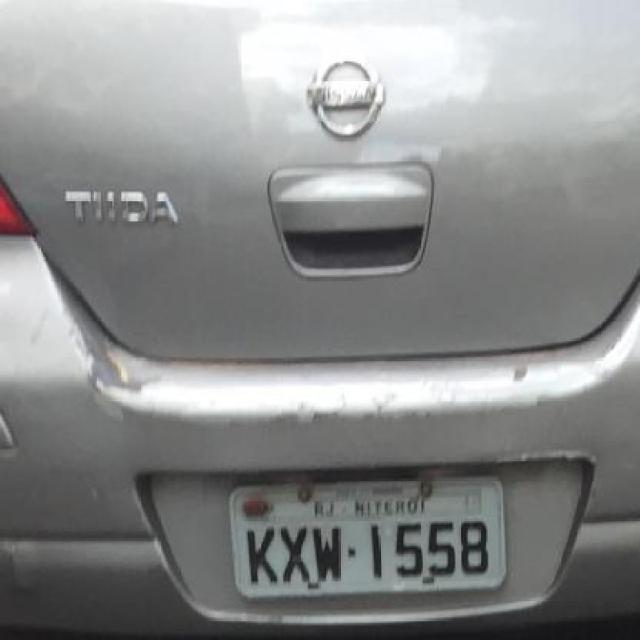old_plate: (223, 468, 515, 606)
